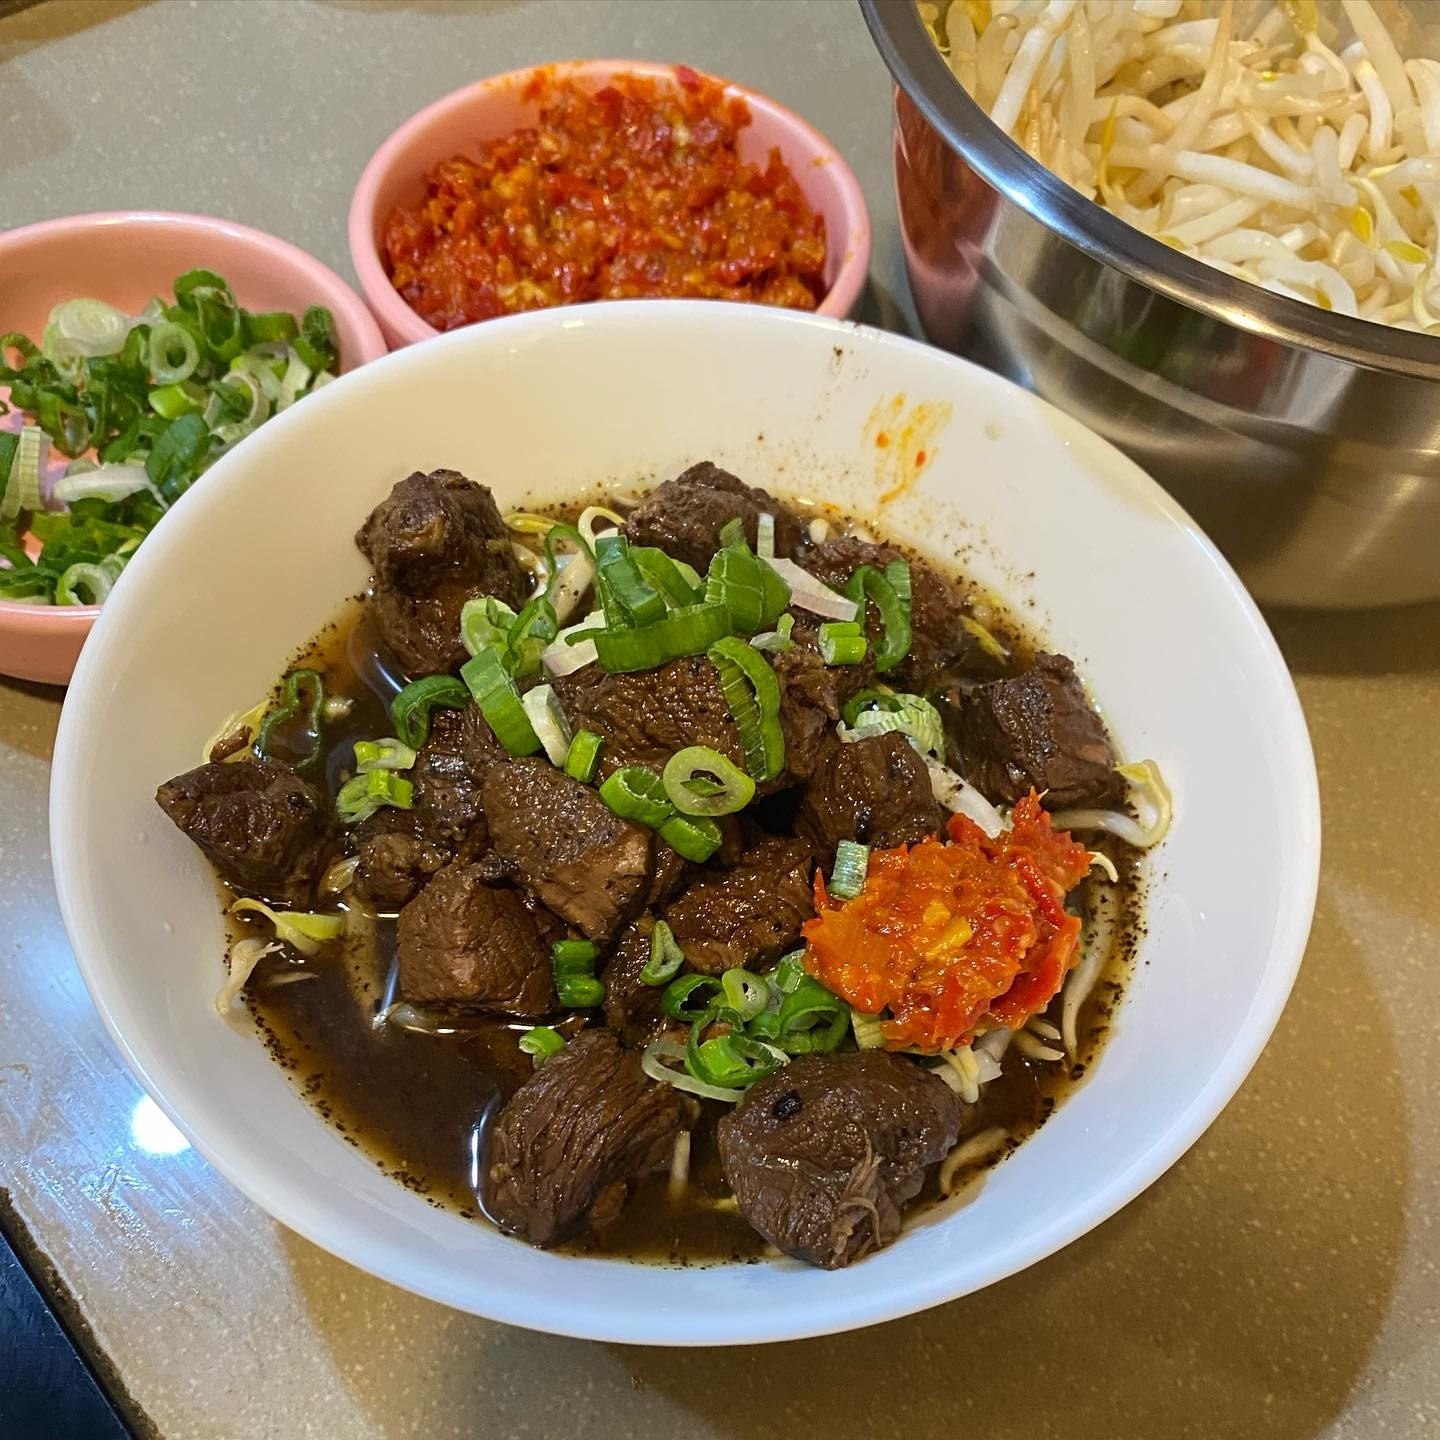rawon: (135, 435, 1079, 1175)
